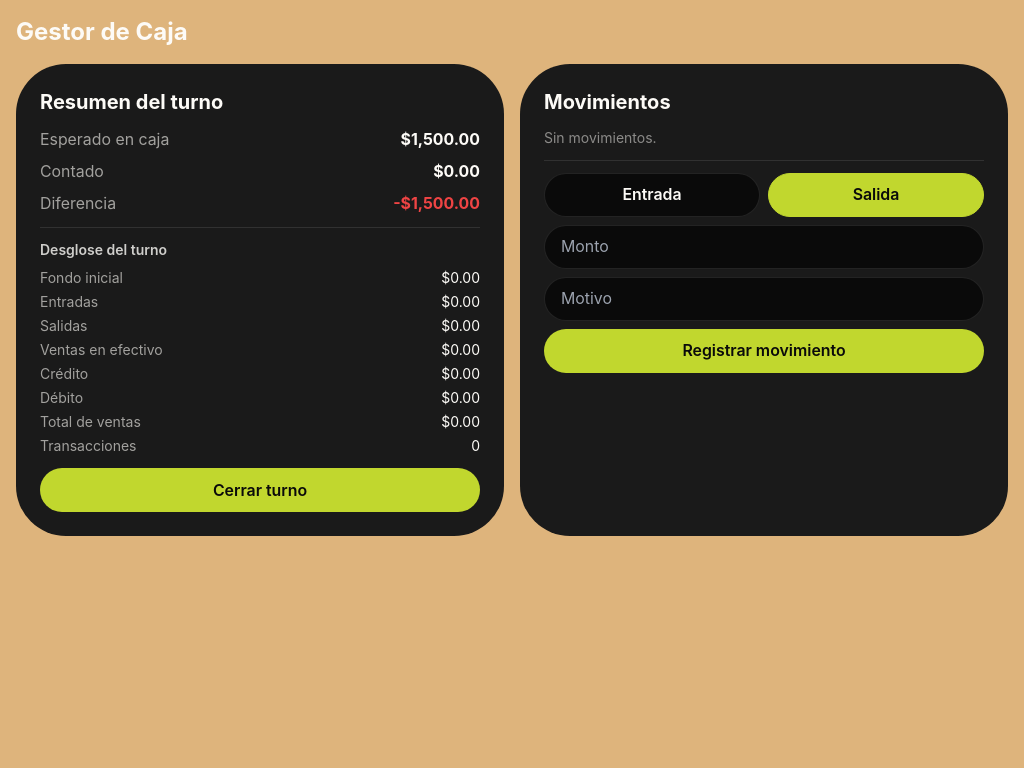
Test: F10.4 — criterio 2: el modal se abre al cerrar con éxito › muestra el diálogo de contexto tras confirmar el cierre
The width and height of the screenshot is (1024, 768).
expect the heading "Resumen del turno" is shown: met, box [40,90,223,114]
Click the button "Cerrar turno".
click(260, 490)  # box [40,468,480,512]
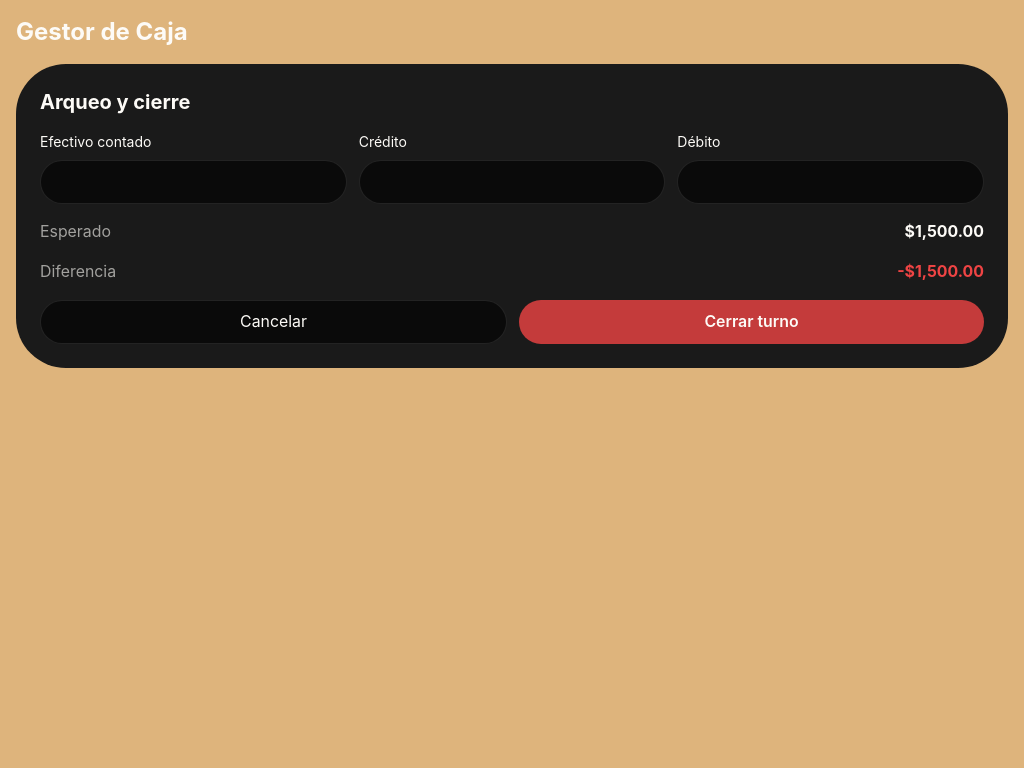
expect the heading "Arqueo y cierre" is shown: met, box [40,90,190,114]
Click the button "Cerrar turno".
click(752, 322)  # box [519,300,984,344]
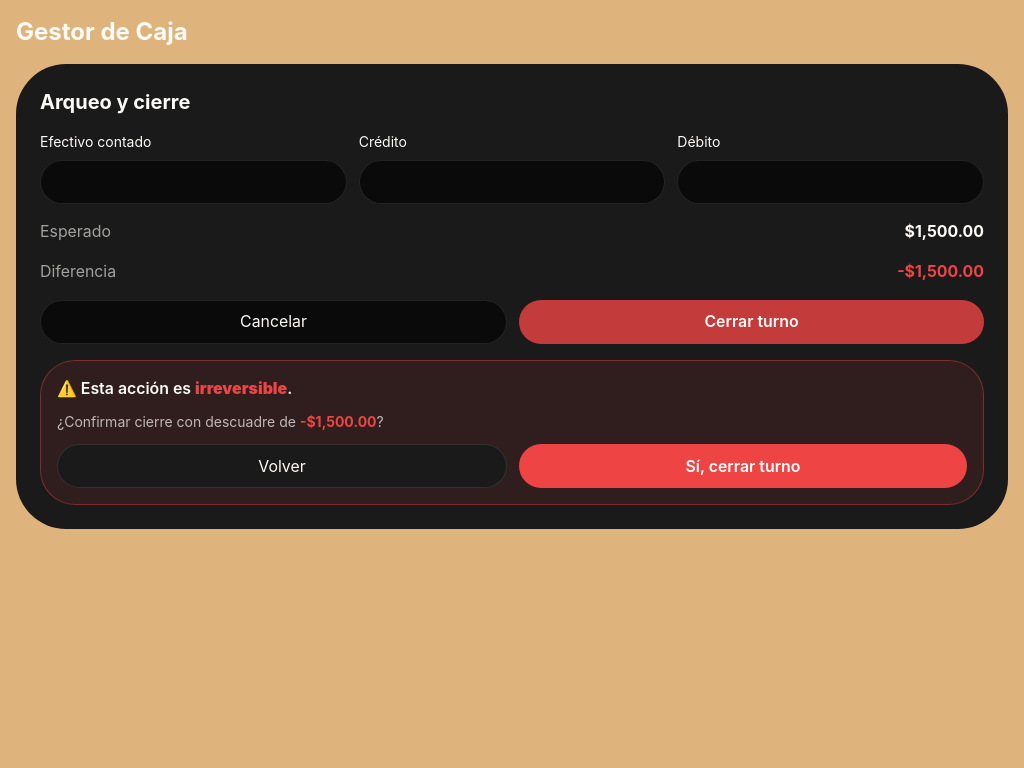
Click the button "Sí, cerrar turno".
click(743, 466)  # box [519,444,967,488]
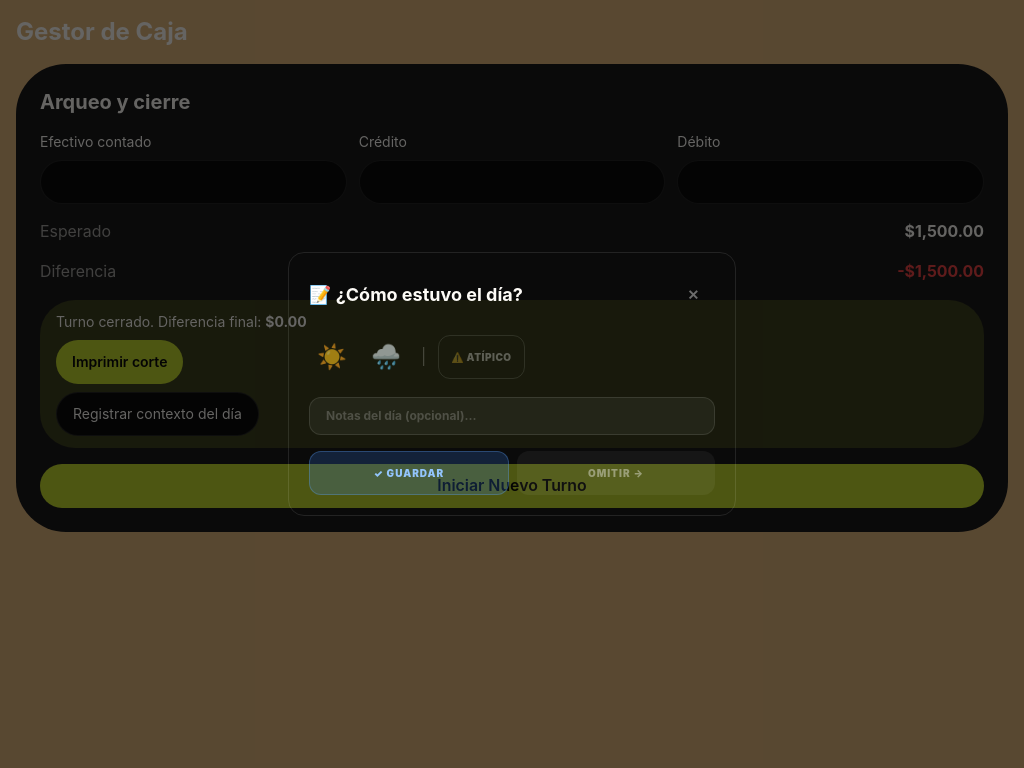
expect the dialog named "Contexto diario post-corte" is shown: met
